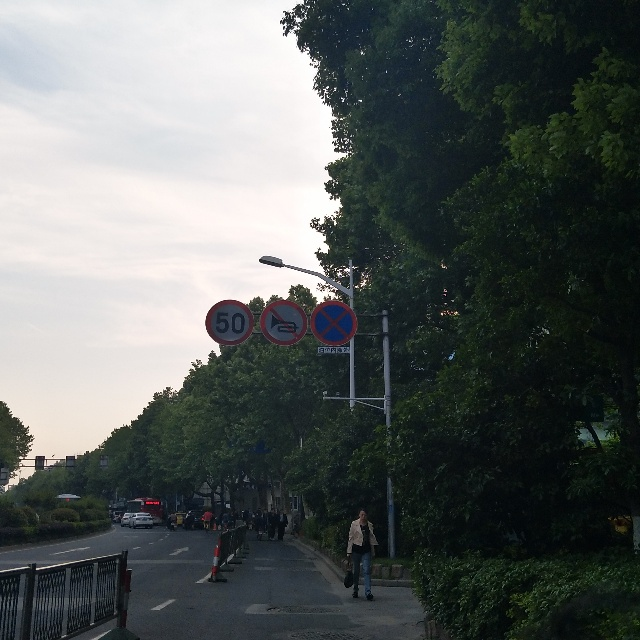nohonk: (265, 301, 299, 343)
stop: (317, 302, 352, 341)
